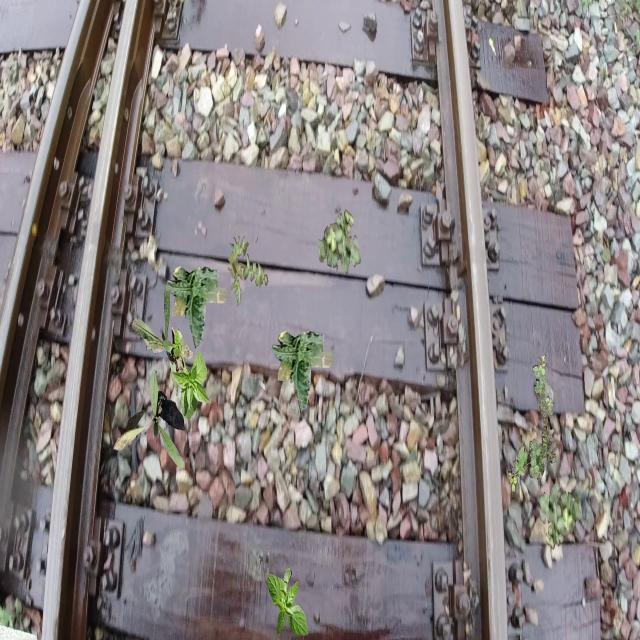Plant: (131, 285, 195, 397), (113, 370, 184, 470), (508, 354, 556, 492), (166, 266, 230, 349), (271, 331, 334, 414), (163, 327, 211, 422), (538, 483, 582, 550), (318, 209, 362, 276), (227, 235, 268, 306), (267, 568, 308, 639)
